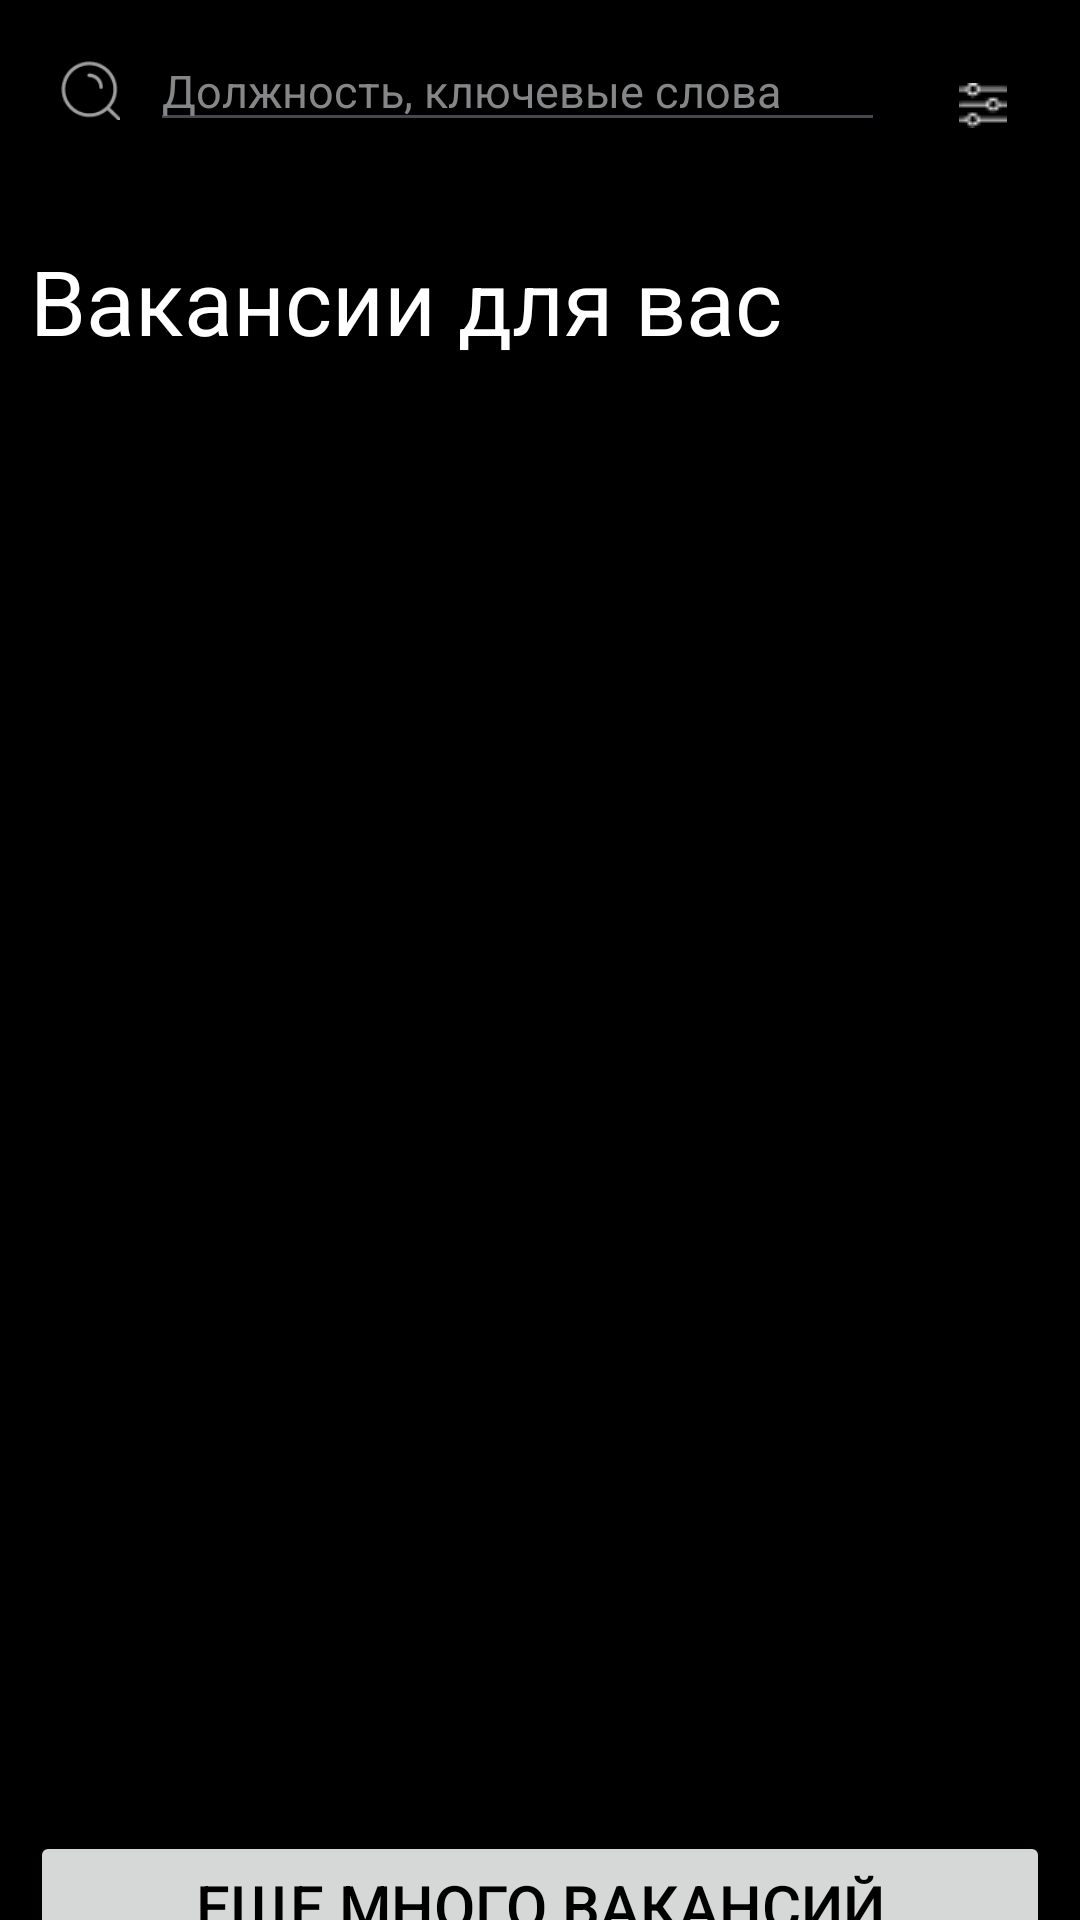

Icons on this 1080x1920 Android screen, each with its box as bbox=[x1, y1, x2, y2]:
filter: bbox=[959, 83, 1007, 128]
search: bbox=[61, 61, 120, 120]
